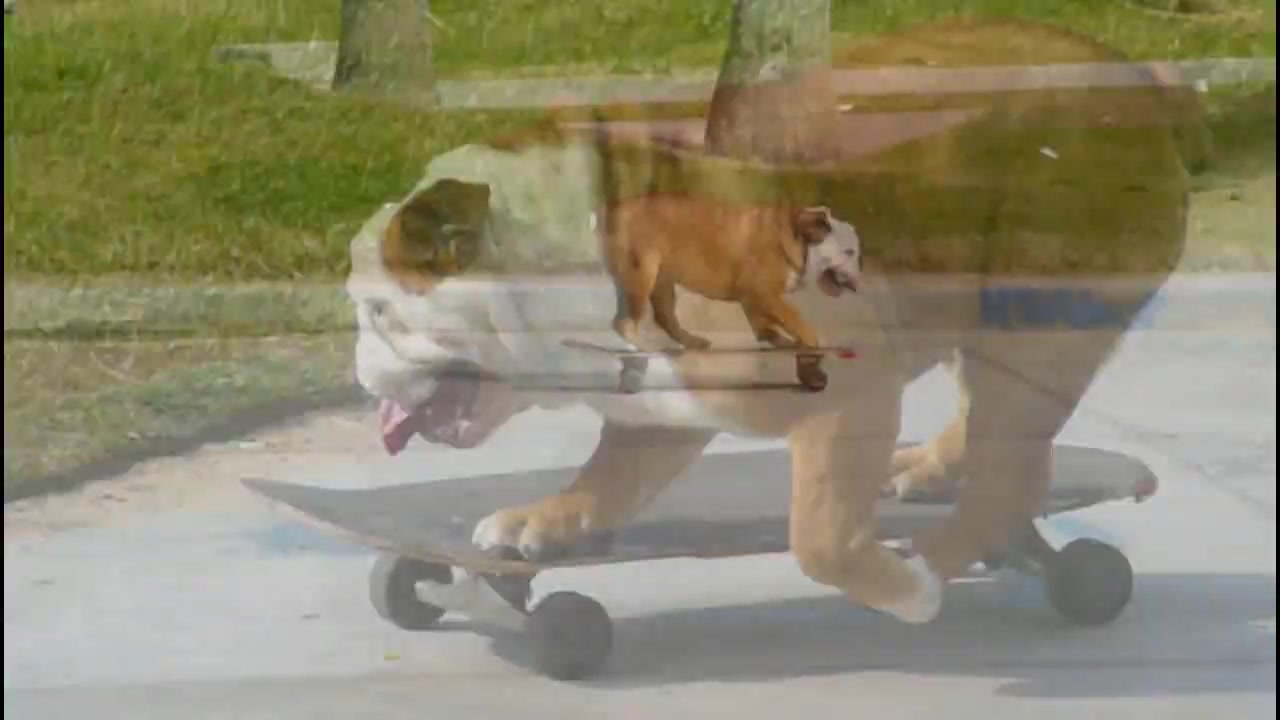dog: (582, 195, 868, 346)
